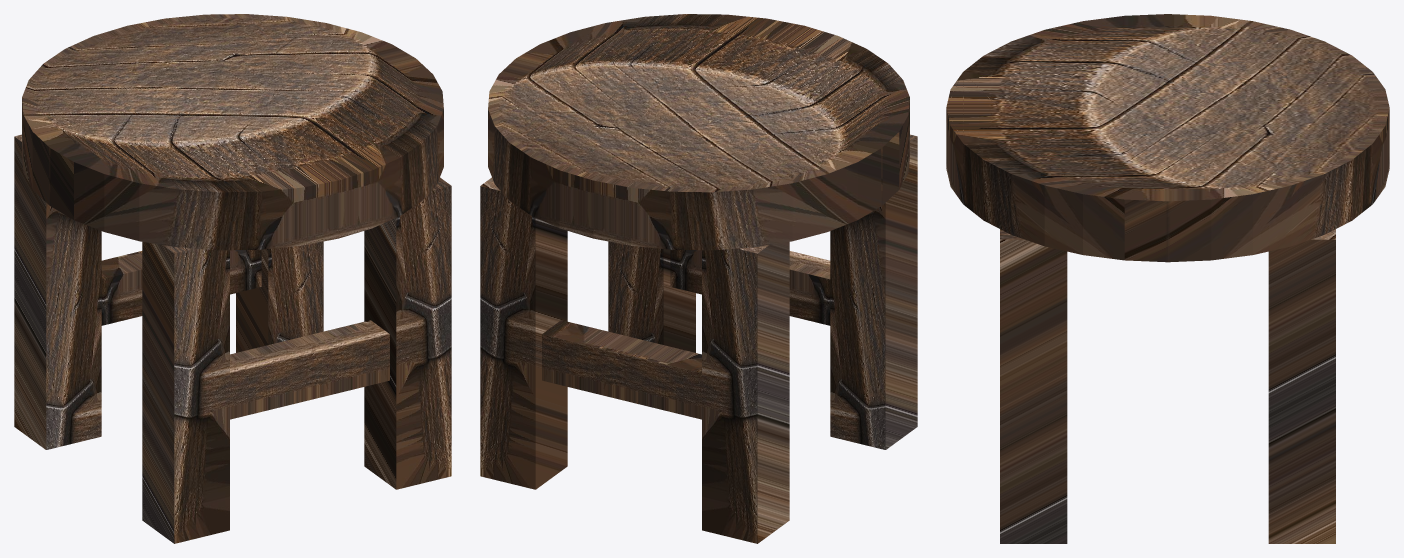
File: v3-guard-post-stool.glb
3 renders of one model, left to right at view 1: azimuth 30°, elevation 25°; view 2: azimuth 150°, elevation 25°; view 3: azimuth 270°, elevation 25°, orthographic. The views are drawn at different scales.
Visible parts, largest first — view 1: v3-guard-post-stool; view 2: v3-guard-post-stool; view 3: v3-guard-post-stool.
Boxes of the visible parts, <box> form: v3-guard-post-stool: <box>14,14,451,543</box>; v3-guard-post-stool: <box>480,14,917,543</box>; v3-guard-post-stool: <box>946,14,1389,543</box>.
Size of the model in its own units: 0.66 by 0.6 by 0.66.
1 material, 1 textured.
